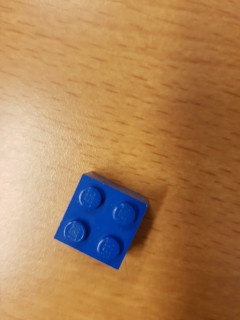2x2 blue: (52, 170, 150, 274)
